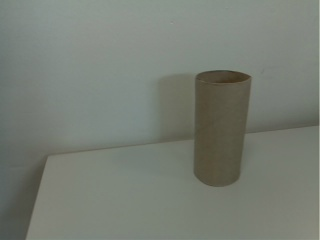rollo papel: (192, 69, 255, 190)
